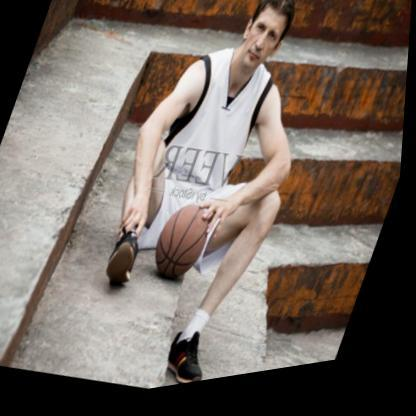basketball: (148, 202, 220, 294)
